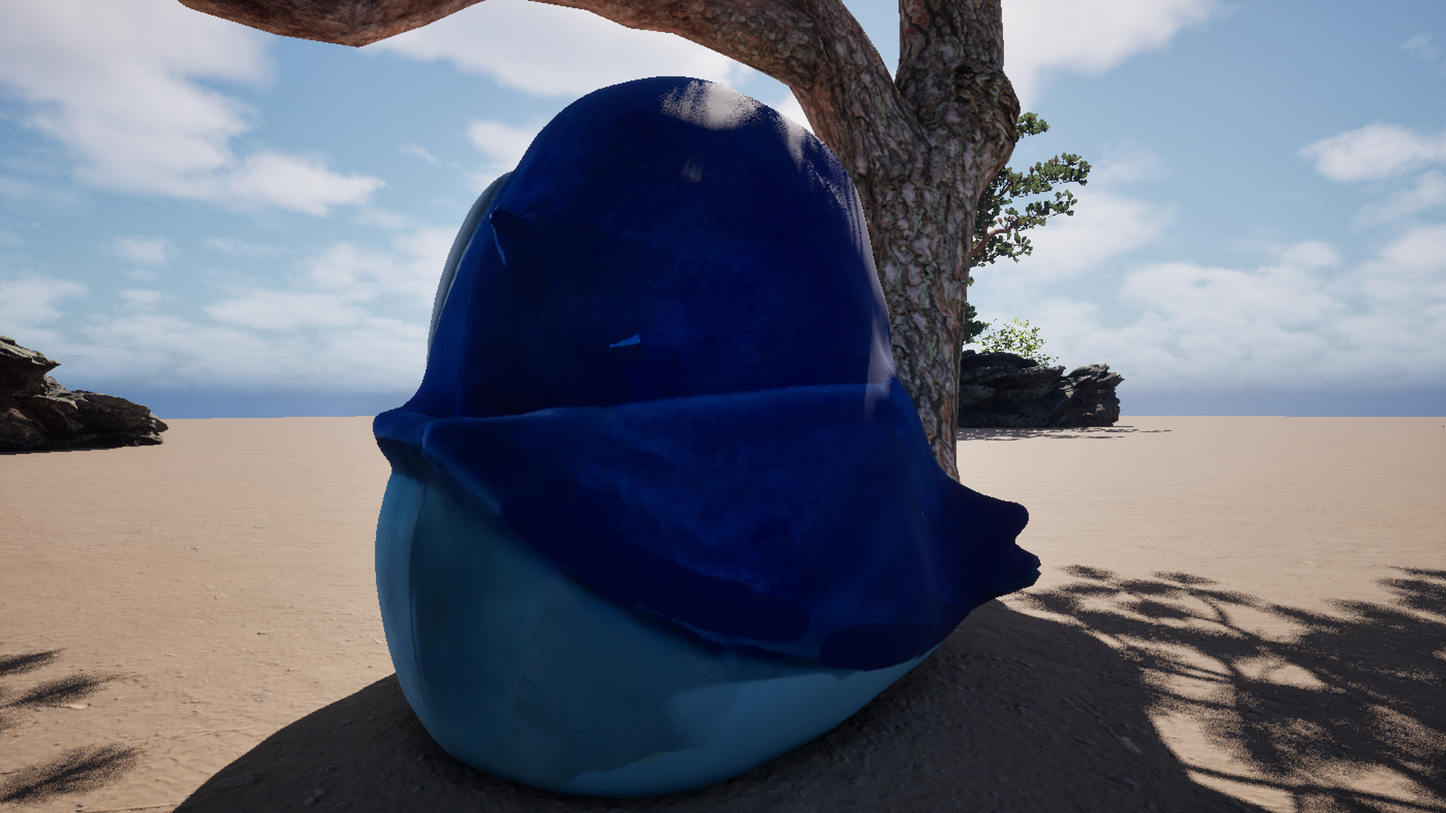Piplup: (186, 0, 1043, 813)
